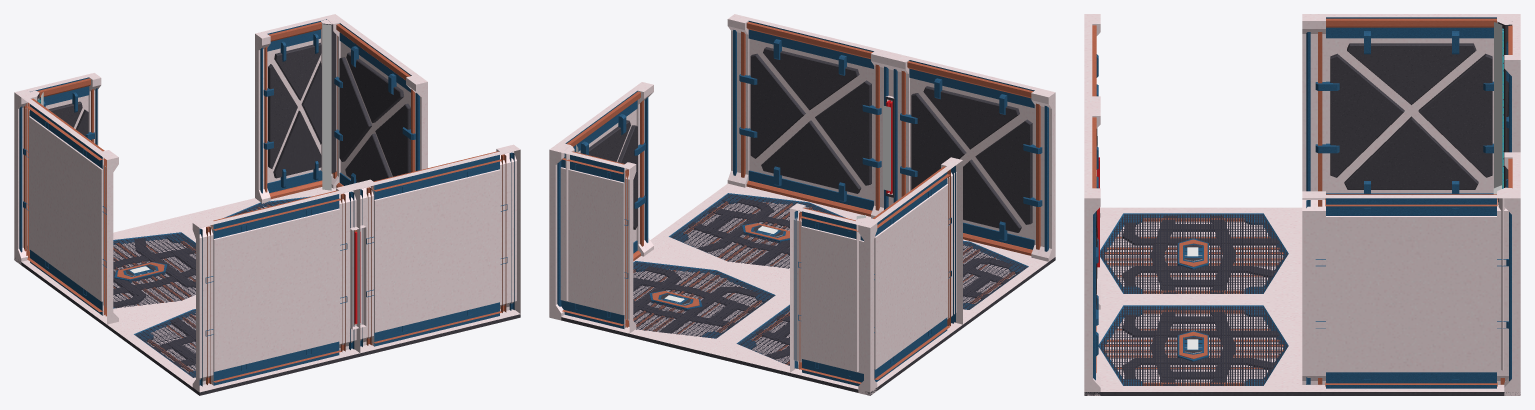
File: Room3.fbx
The picture shows the model from 3 angles, left to right: view 1: azimuth 30°, elevation 25°; view 2: azimuth 150°, elevation 25°; view 3: azimuth 270°, elevation 25°; orthographic projection. The views are drawn at different scales.
Parts seen in each view (by area): view 1: MeshBaker__30_00___30_00___30_00__mesh_mesh, AreaLight__5_; view 2: MeshBaker__30_00___30_00___30_00__mesh_mesh, AreaLight; view 3: MeshBaker__30_00___30_00___30_00__mesh_mesh, AreaLight__22_.
Boxes of the visible parts, left/top/right/bottom form: MeshBaker__30_00___30_00___30_00__mesh_mesh: left=14, top=14, right=520, bottom=395; AreaLight__5_: left=322, top=24, right=331, bottom=190; MeshBaker__30_00___30_00___30_00__mesh_mesh: left=549, top=14, right=1055, bottom=395; AreaLight: left=883, top=105, right=890, bottom=191; MeshBaker__30_00___30_00___30_00__mesh_mesh: left=1084, top=14, right=1520, bottom=395; AreaLight__22_: left=1494, top=22, right=1501, bottom=188.
Bounding box in the file's own units: 800 × 402 × 800.
